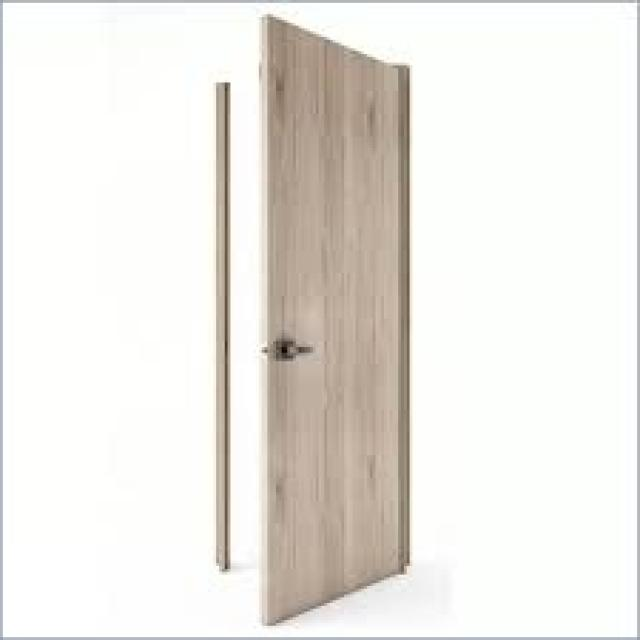door: (259, 11, 412, 626)
